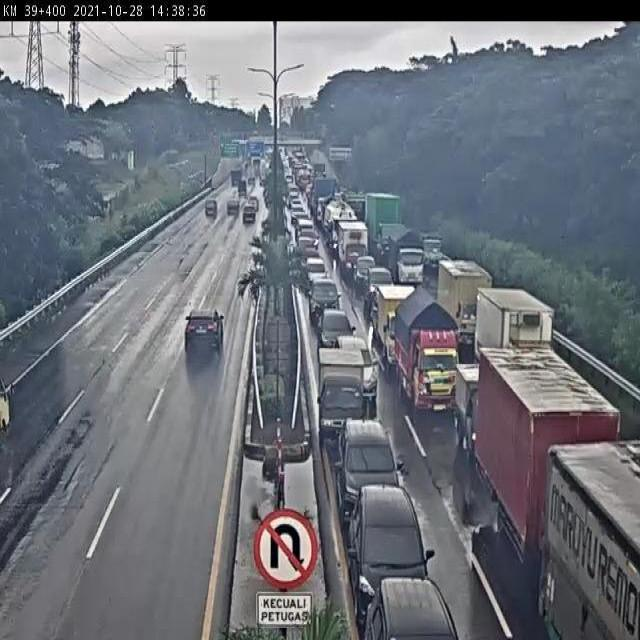car: (350, 489, 440, 588), (331, 411, 404, 500), (363, 572, 451, 640), (179, 297, 228, 371), (336, 330, 378, 402), (314, 304, 356, 356), (308, 277, 342, 324), (301, 252, 330, 291), (351, 255, 384, 288), (294, 235, 324, 271), (367, 268, 395, 305), (240, 202, 258, 230), (203, 195, 219, 220), (225, 197, 241, 220)
truck: (473, 346, 623, 546), (540, 444, 640, 640), (396, 293, 456, 415), (471, 288, 551, 356), (436, 260, 496, 341), (313, 349, 366, 436), (374, 280, 420, 367), (362, 192, 415, 253), (459, 360, 487, 449), (339, 222, 370, 270), (0, 379, 22, 435)
